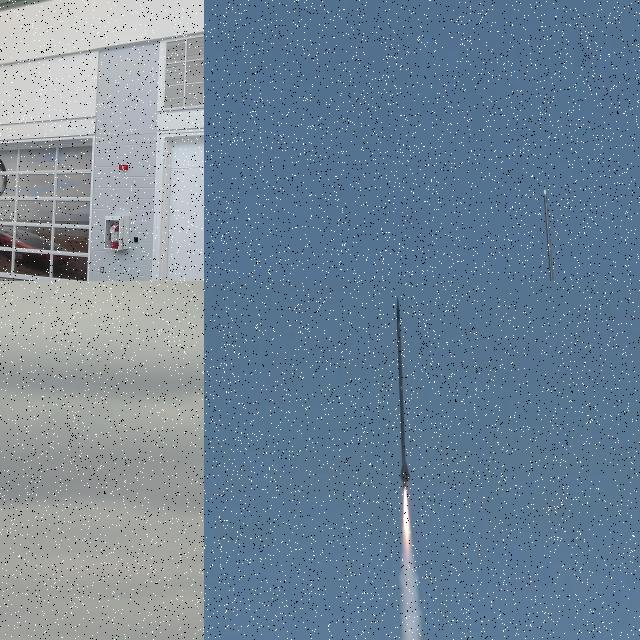Rocket: (395, 298, 413, 494), (542, 187, 559, 281)
